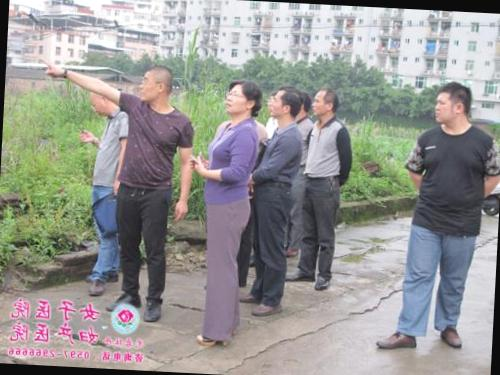no_helmet: (429, 78, 476, 132), (220, 76, 262, 122), (136, 61, 178, 106), (271, 84, 310, 127), (84, 76, 120, 118), (310, 84, 340, 122)
